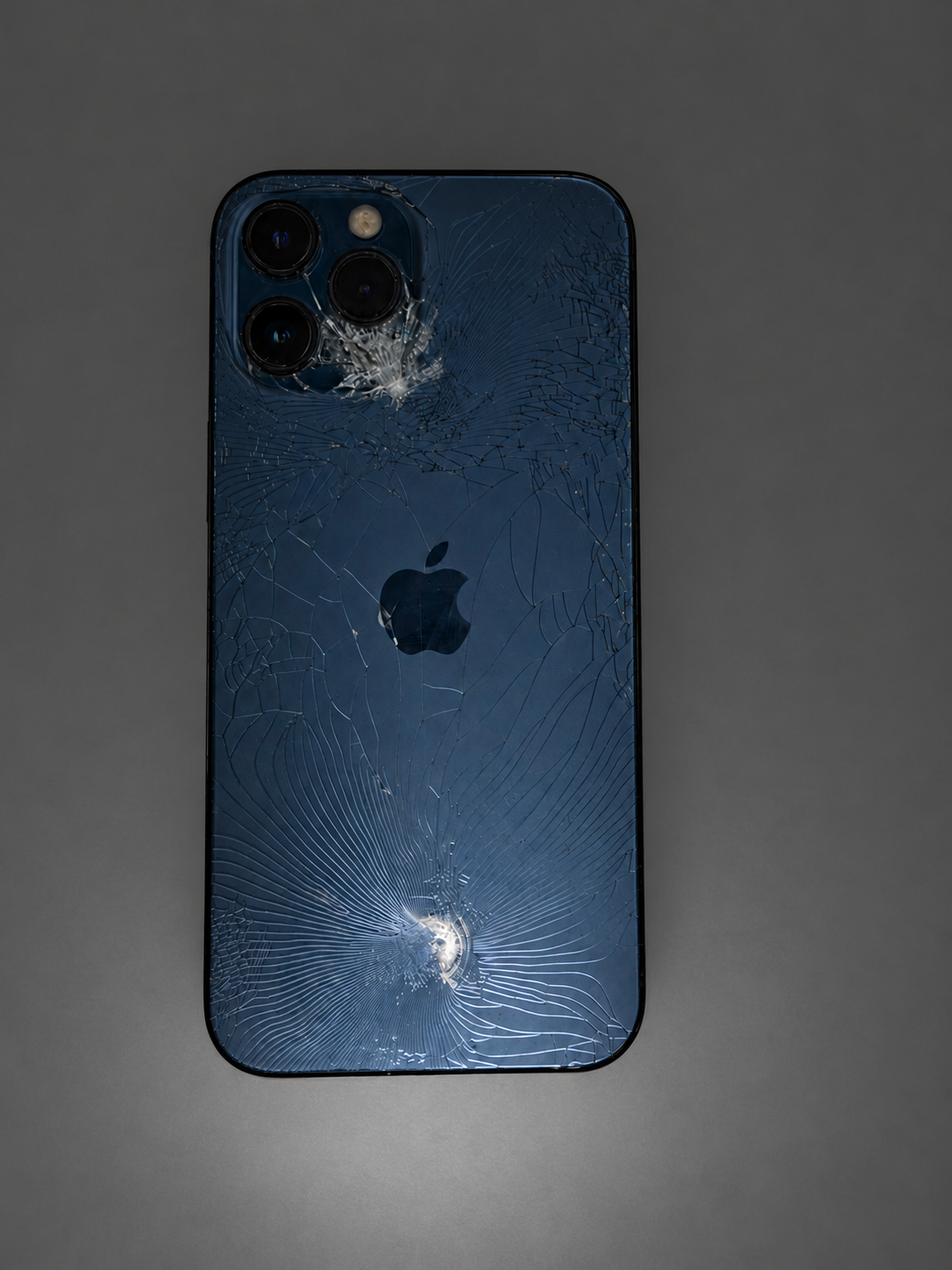iphone_12_pro_max_Crack: (177, 117, 714, 1145)
